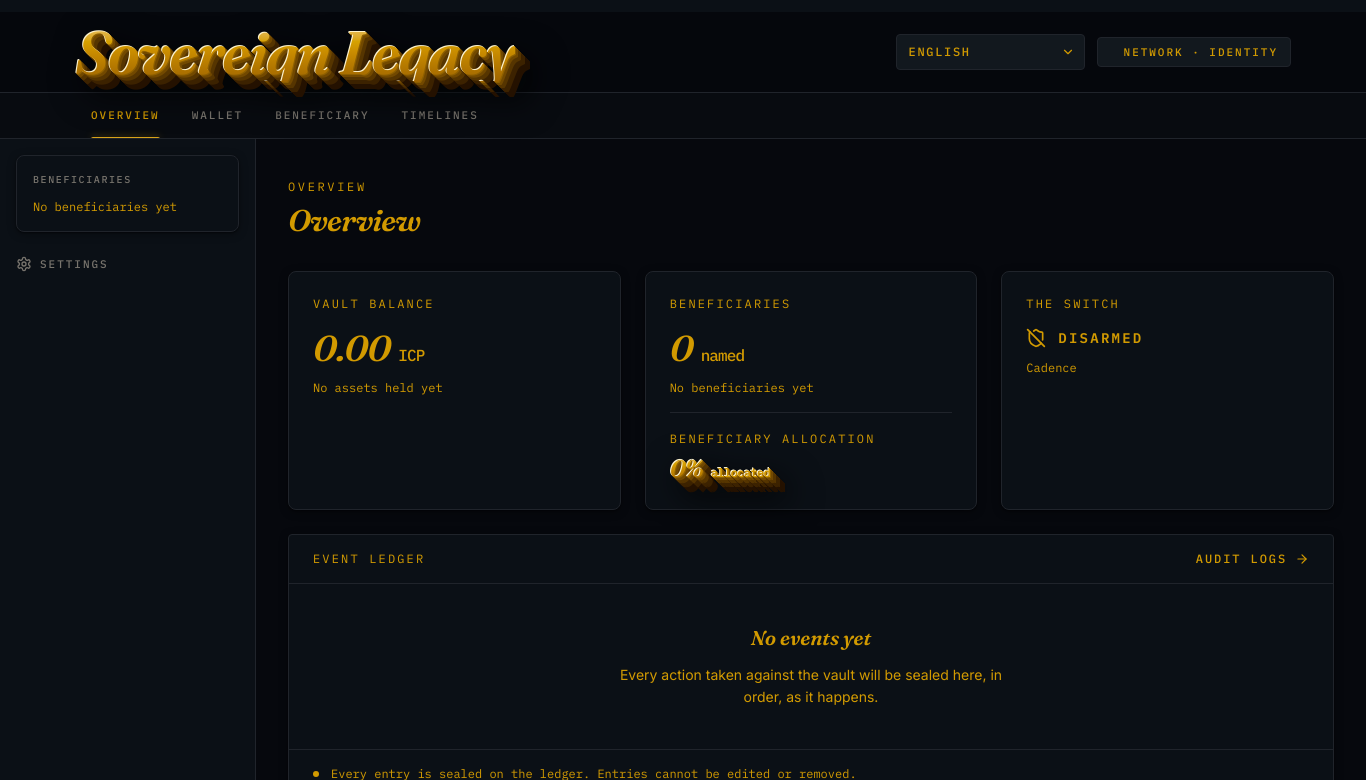
Test case: i18n translation pass › re-renders protected page copy when switching locale
Expected: the text "Network · Identity" is shown, top-left (1096, 37), bottom-right (1291, 67)
# Switch to Spanish.
Select "Español" in the dropdown named "Language" at (990,52), box top-left (896, 34), bottom-right (1084, 70)
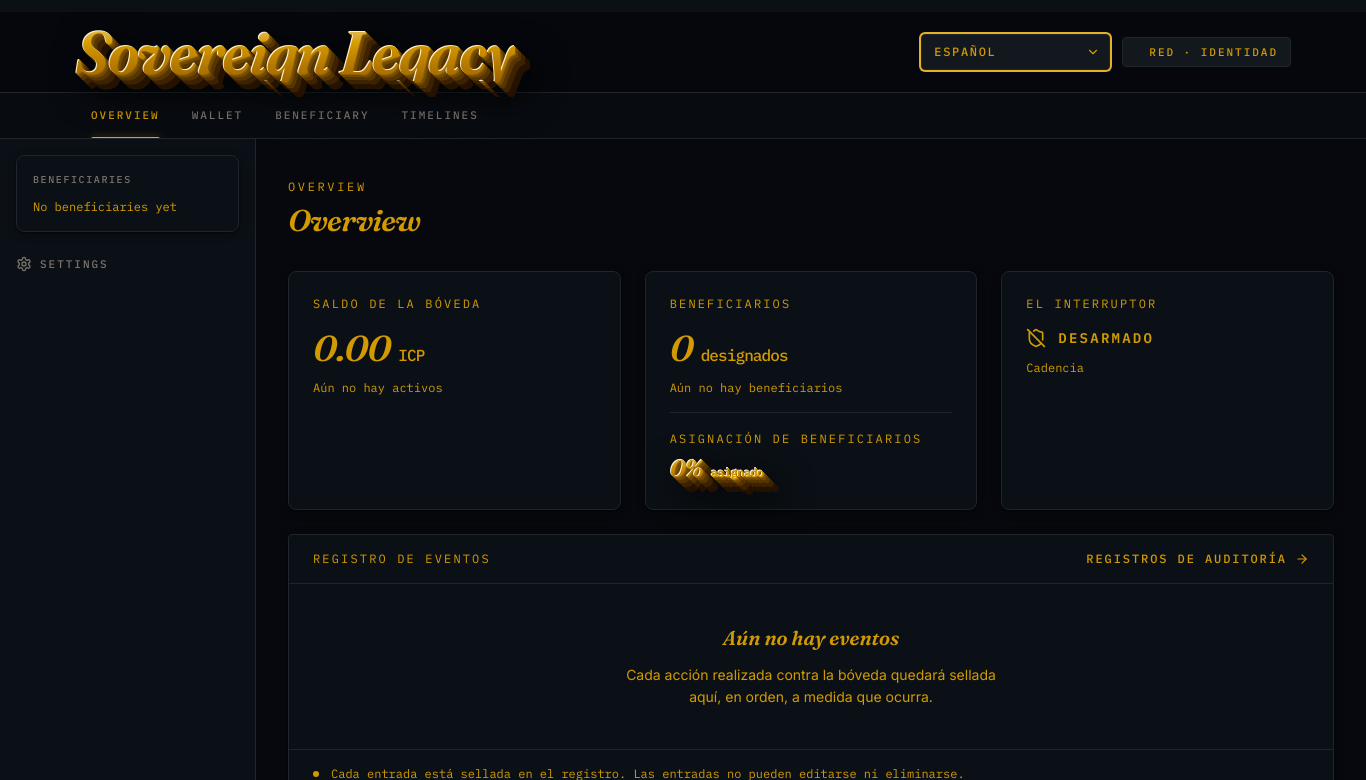
Now the text "Red · Identidad" is shown, box top-left (1122, 37), bottom-right (1291, 67)
